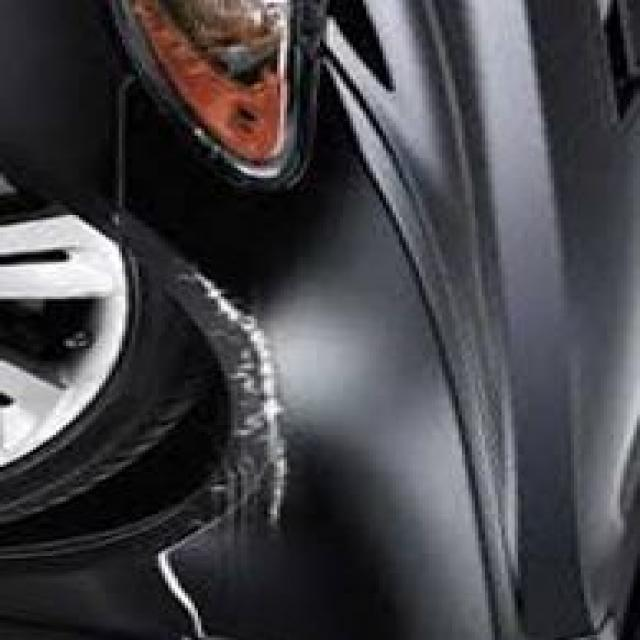scratch: (129, 242, 323, 583)
